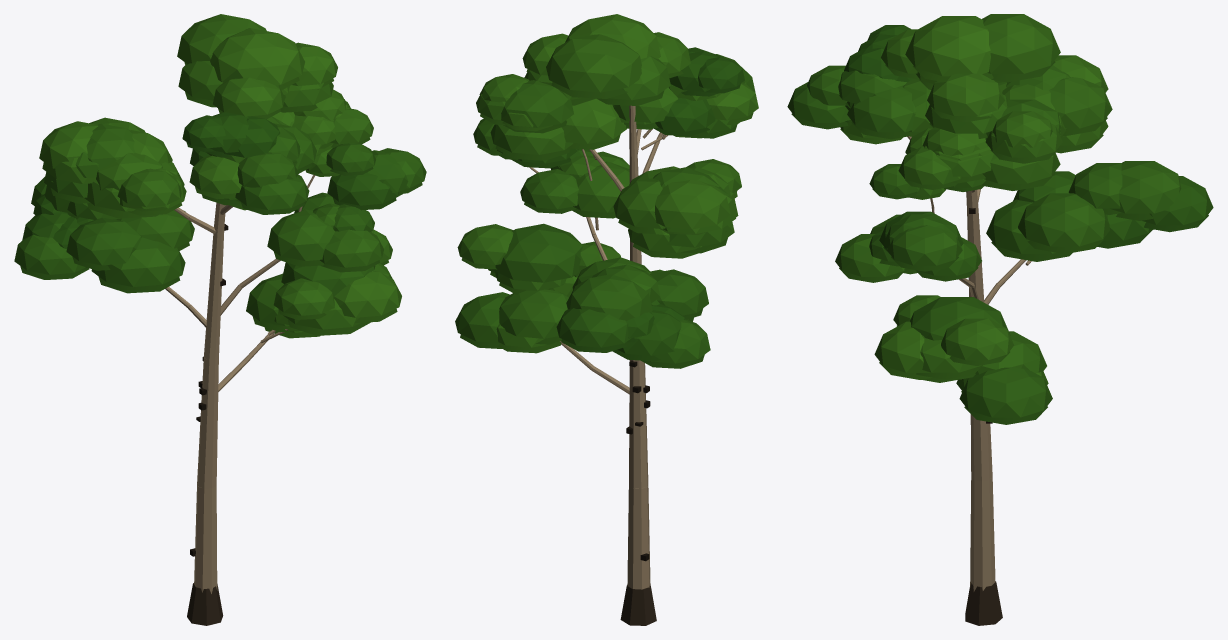
File: tree_birch_3.glb
The picture shows the model from 3 angles, left to right: view 1: azimuth 30°, elevation 25°; view 2: azimuth 150°, elevation 25°; view 3: azimuth 270°, elevation 25°; orthographic projection. The views are drawn at different scales.
Visible parts, largest first — view 1: leaf, wood; view 2: leaf, wood; view 3: leaf, wood.
Boxes of the visible parts, x1,y1,x2,y2 form: leaf: (14, 14, 426, 338); wood: (165, 175, 315, 625); leaf: (455, 14, 758, 368); wood: (529, 105, 667, 625); leaf: (787, 14, 1213, 424); wood: (907, 136, 1031, 625).
Bounding box in the file's own units: 5.8 × 10.3 × 6.44.
